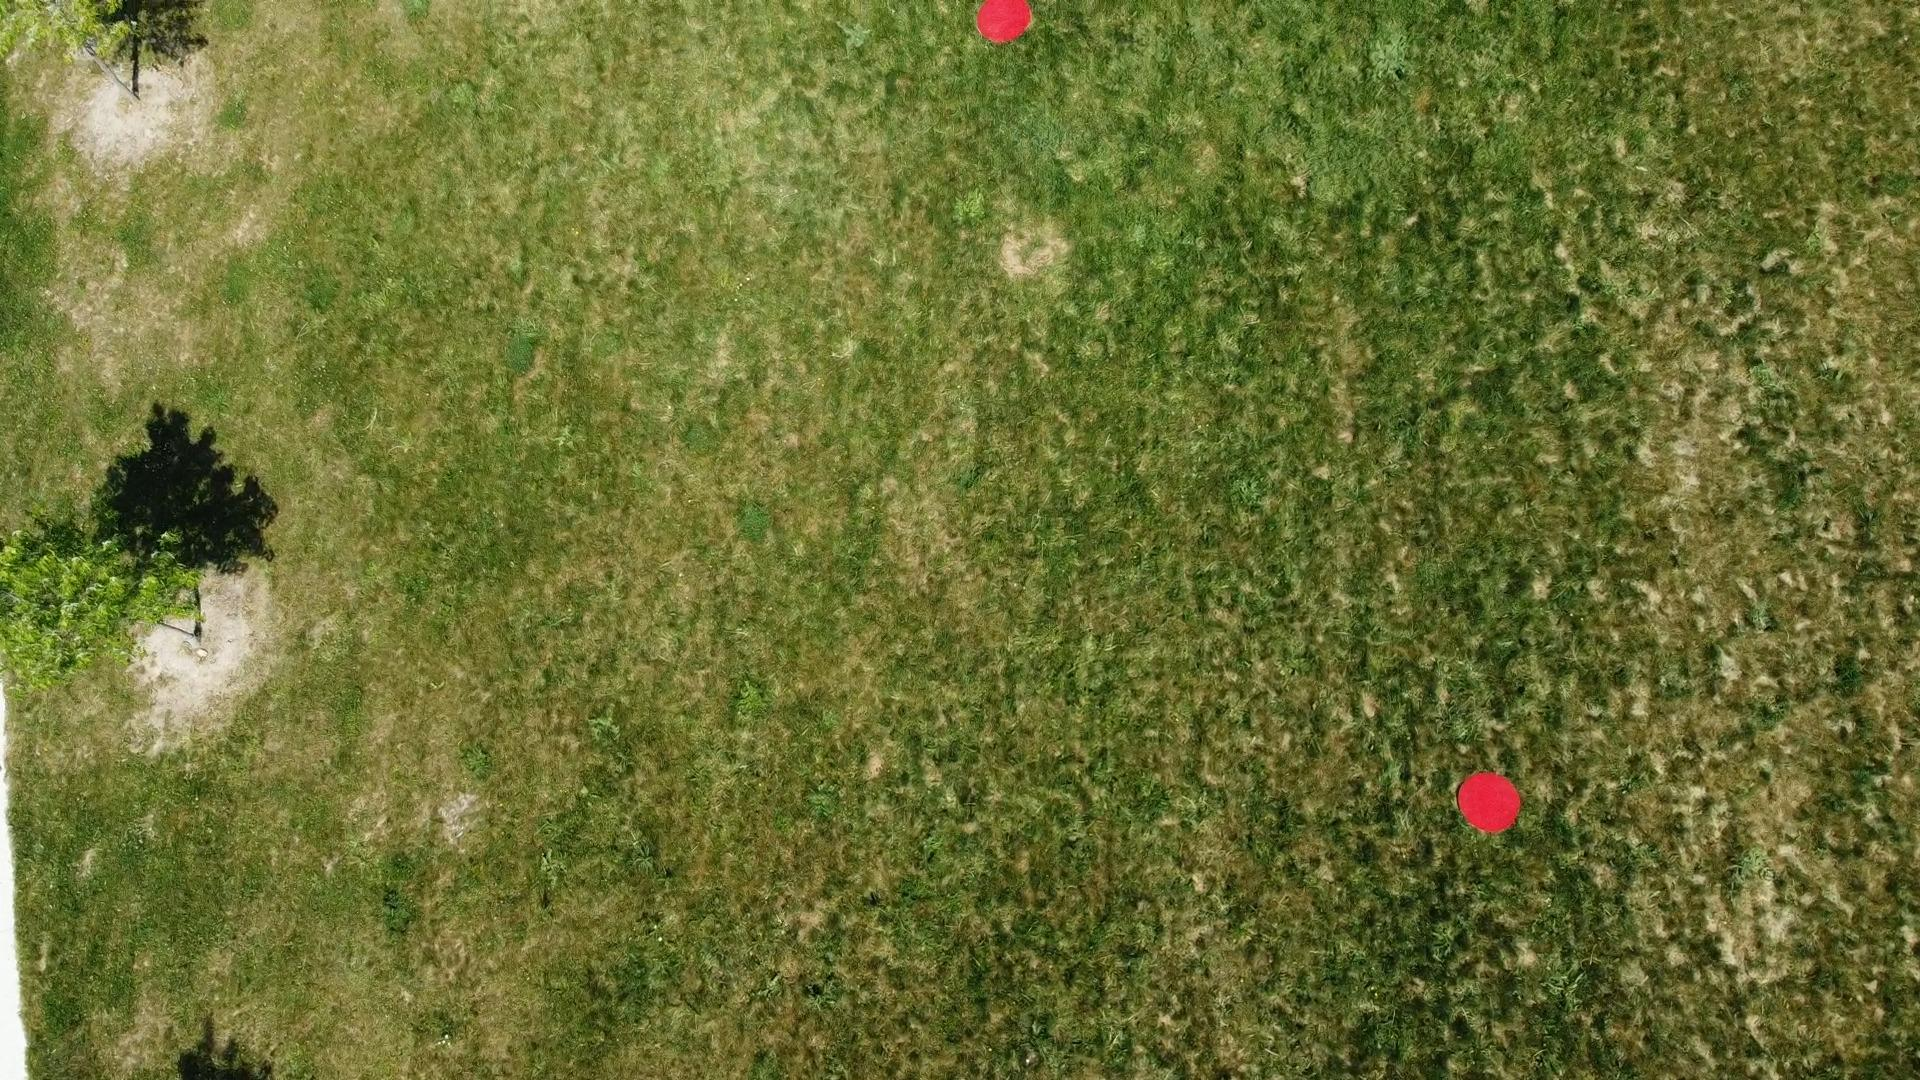Red: (1455, 771, 1527, 833), (975, 0, 1035, 45)
